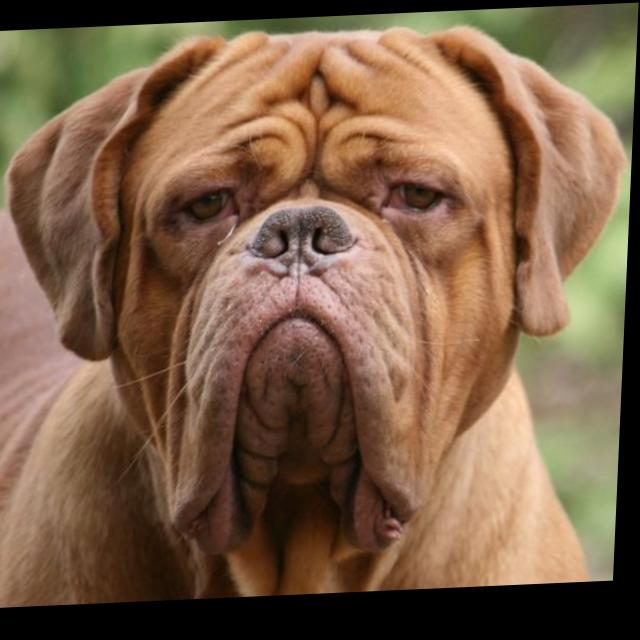dogue_de_bordeaux: (1, 18, 635, 610)
